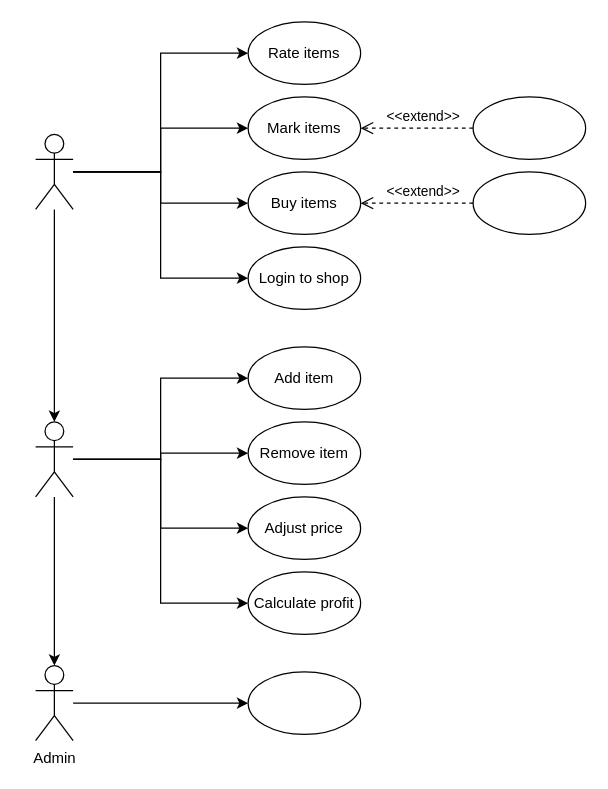
Some shapes in this 608 by 789 pixel diagram are drawn without their labels. The shapes that lost their labels are listed below. From the top down, each one's centre as x and y in pixels, then its label:
At [529,127]: "Get notified about price changes".
At [53,171]: "Customer".
At [529,202]: "Get notified about order status".
At [53,459]: "Vendor".
At [304,702]: "Maintain the shop".
